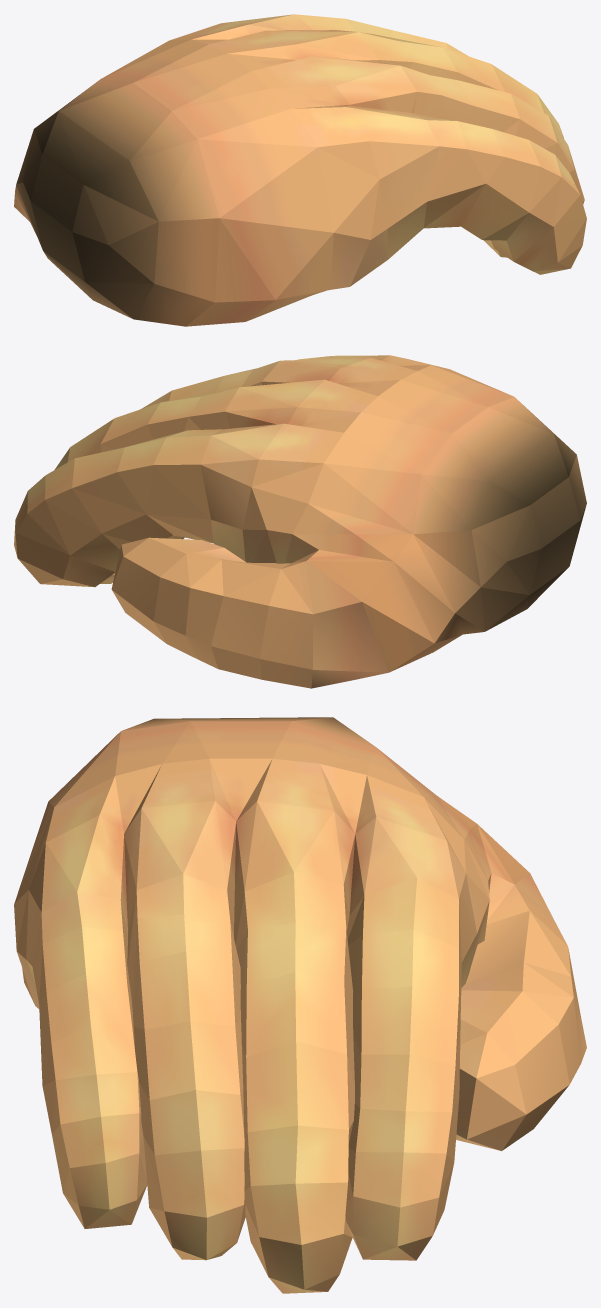
Rendered from right hand 5.obj.
3 renders of one model, top to bottom at view 1: azimuth 30°, elevation 25°; view 2: azimuth 150°, elevation 25°; view 3: azimuth 270°, elevation 25°, orthographic. The views are drawn at different scales.
Parts seen in each view (by area): view 1: n0b0_n0b0.004; view 2: n0b0_n0b0.004; view 3: n0b0_n0b0.004.
Boxes of the visible parts, x1,y1,x2,y2 form: n0b0_n0b0.004: (14, 14, 586, 326); n0b0_n0b0.004: (14, 355, 586, 688); n0b0_n0b0.004: (14, 717, 586, 1293).
Size of the model in its own units: 7.58 by 3.49 by 5.33.
1 material, 1 textured.
